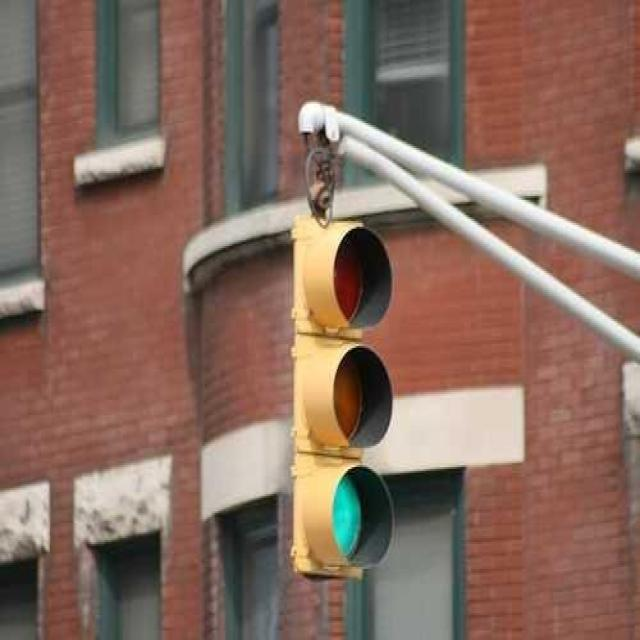Traffic Light -Green-: (290, 209, 400, 604)
